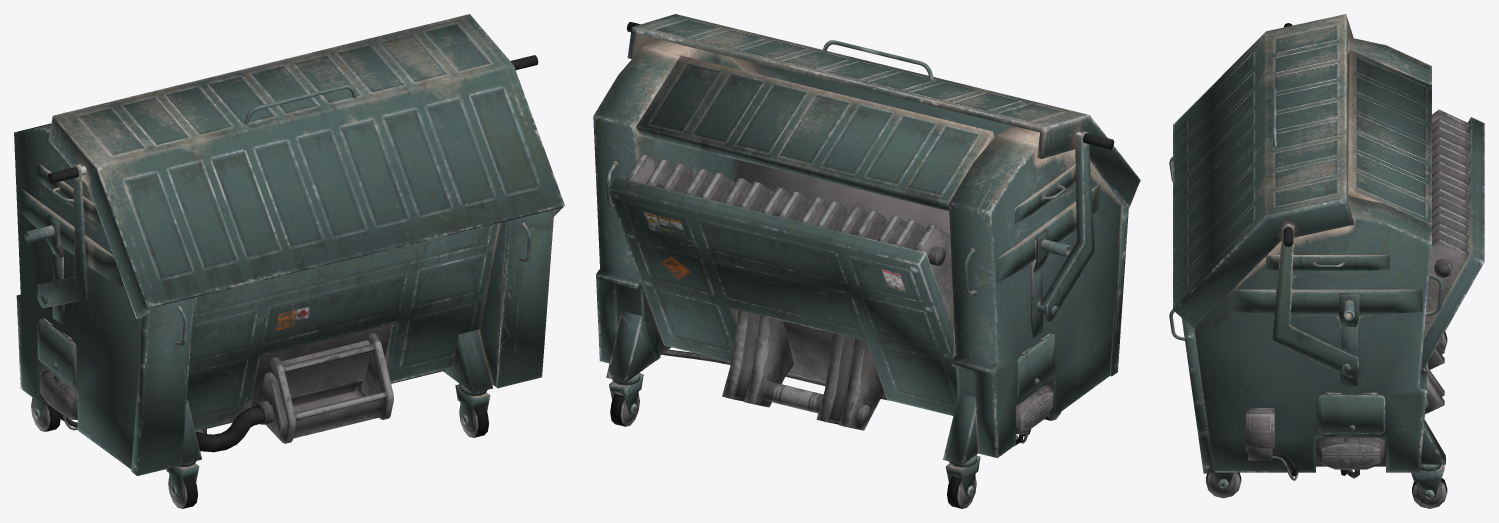
File: TrashCan.fbx
3 renders of one model, left to right at view 1: azimuth 30°, elevation 25°; view 2: azimuth 150°, elevation 25°; view 3: azimuth 270°, elevation 25°, orthographic. The views are drawn at different scales.
Visible parts, largest first — view 1: 00_front_couvercle_low, 00_front_ouverture_low, 00_cadre_low, 02_detail.001_low, 00_front_cache_low, 02_detail.004_low, 01_front_roue_triangle_low, 04_front_mechanical.001_low, 04_front_mechanical_low, 02_detail.003_low, 01_front_roue_low, 02_detail.006_low (+7 smaller); view 2: 00_cadre_low, 00_back_ouverture_low, 00_back_couvercle_low, 00_front_couvercle_low, 04_back_mechanical.001_low, 00_interieur_low, 01_front_roue_triangle_low, 02_detail.003_low, 02_detail.004_low, 04_back_mechanical.002_low, 04_back_mechanical_cylindre_low, 02_detail.006_low (+13 smaller); view 3: 00_front_couvercle_low, 00_cadre_low, 00_back_couvercle_low, 02_detail.004_low, 00_back_ouverture_low, 02_detail.003_low, 02_detail.006_low, 02_detail.005_low, 04_back_mechanical.002_low, 02_detail.001_low, 02_detail.002_low, 01_front_roue_low (+13 smaller).
Part boxes in pixels (<box>): 00_front_couvercle_low: <box>48,14,564,318</box>; 00_front_ouverture_low: <box>186,223,499,430</box>; 00_cadre_low: <box>14,123,508,469</box>; 02_detail.001_low: <box>131,210,554,475</box>; 00_front_cache_low: <box>251,324,392,407</box>; 02_detail.004_low: <box>19,161,123,286</box>; 01_front_roue_triangle_low: <box>182,329,493,464</box>; 04_front_mechanical.001_low: <box>281,340,383,438</box>; 04_front_mechanical_low: <box>265,333,393,443</box>; 02_detail.003_low: <box>37,164,87,308</box>; 01_front_roue_low: <box>31,399,489,508</box>; 02_detail.006_low: <box>37,318,76,385</box>; 00_cadre_low: <box>593,39,1121,457</box>; 00_back_ouverture_low: <box>608,177,957,415</box>; 00_back_couvercle_low: <box>636,55,994,210</box>; 00_front_couvercle_low: <box>627,14,1140,208</box>; 04_back_mechanical.001_low: <box>722,310,884,430</box>; 00_interieur_low: <box>734,159,950,397</box>; 01_front_roue_triangle_low: <box>606,311,978,464</box>; 02_detail.003_low: <box>1040,131,1094,322</box>; 02_detail.004_low: <box>996,164,1099,283</box>; 04_back_mechanical.002_low: <box>626,154,954,330</box>; 04_back_mechanical_cylindre_low: <box>763,246,945,424</box>; 02_detail.006_low: <box>1016,334,1055,400</box>; 00_front_couvercle_low: <box>1173,14,1353,327</box>; 00_cadre_low: <box>1194,37,1431,472</box>; 00_back_couvercle_low: <box>1347,50,1431,224</box>; 02_detail.004_low: <box>1233,255,1422,313</box>; 00_back_ouverture_low: <box>1421,117,1484,370</box>; 02_detail.003_low: <box>1271,224,1359,377</box>; 02_detail.006_low: <box>1317,394,1385,434</box>; 02_detail.005_low: <box>1317,437,1384,469</box>; 04_back_mechanical.002_low: <box>1424,109,1469,334</box>; 02_detail.001_low: <box>1181,318,1214,473</box>; 02_detail.002_low: <box>1246,408,1274,460</box>; 01_front_roue_low: <box>1206,332,1447,508</box>.
Bounding box in the file's own units: 2 × 1.41 × 1.24.
Materials: 1 (1 with a texture image).
